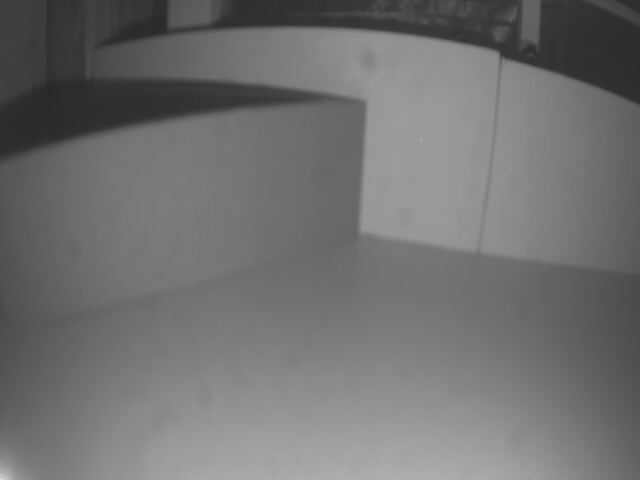Green: (1, 102, 367, 332)
